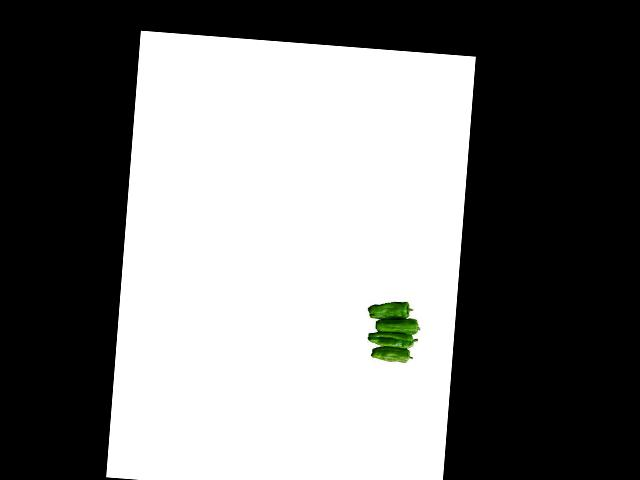bell_pepper: (363, 298, 415, 322)
